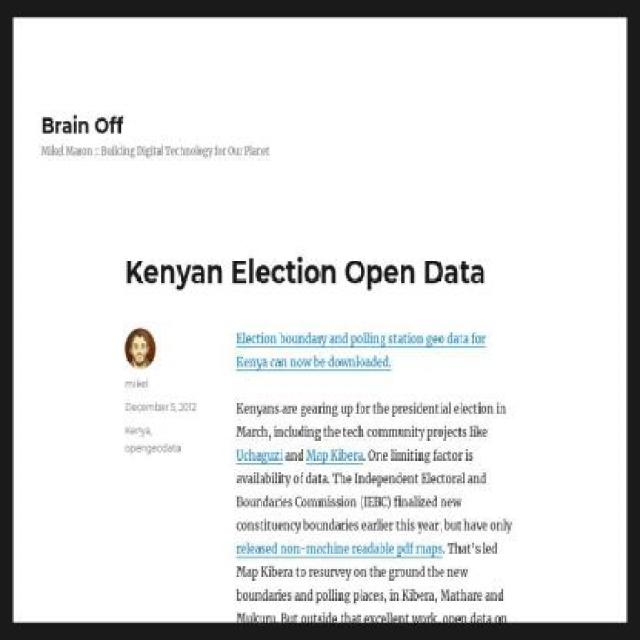button: (236, 330, 487, 370), (236, 540, 444, 557), (306, 447, 365, 464), (236, 447, 284, 464)
